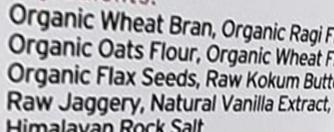ingredients: (6, 1, 334, 132)
